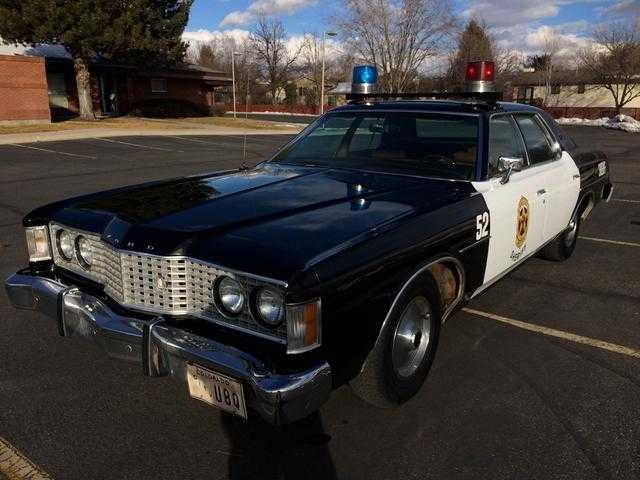Police Car: (24, 62, 628, 417)
